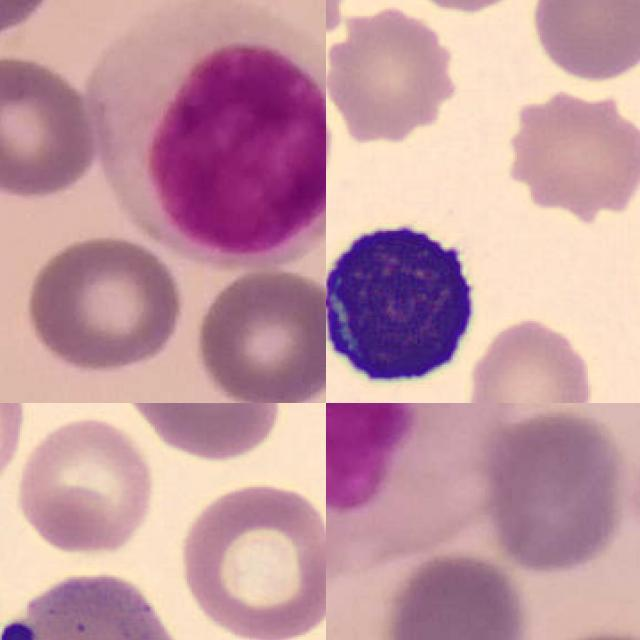Lymphocyte: (326, 206, 486, 402), (0, 559, 195, 640)
Monocyte: (82, 0, 326, 271), (326, 403, 518, 553)
RBC: (171, 477, 326, 640), (13, 413, 160, 559), (461, 310, 598, 403), (117, 403, 300, 462), (527, 0, 640, 83), (385, 0, 532, 16)
